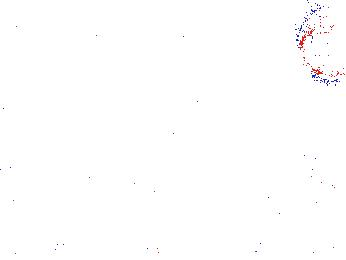moon jellyfish: (149, 109, 273, 217), (1, 22, 58, 101), (294, 5, 346, 82)
